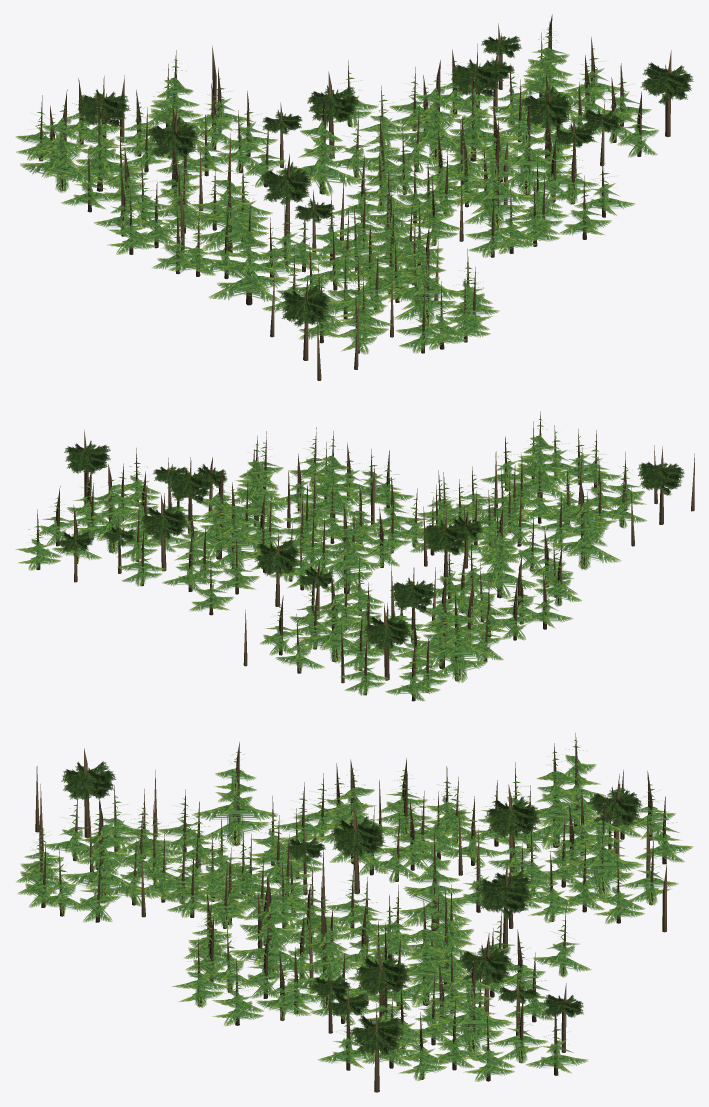
Rendered from foret-Cg5i2cno.glb.
3 renders of one model, top to bottom at view 1: azimuth 30°, elevation 25°; view 2: azimuth 150°, elevation 25°; view 3: azimuth 270°, elevation 25°, orthographic. The views are drawn at different scales.
Parts seen in each view (by area): view 1: Object_3, Object_13, Object_8, Object_14; view 2: Object_3, Object_13, Object_8, Object_14; view 3: Object_3, Object_8, Object_13, Object_14.
Boxes of the visible parts, left/top/right/bottom form: Object_3: left=15, top=27, right=659, bottom=354; Object_13: left=39, top=14, right=641, bottom=353; Object_8: left=78, top=33, right=693, bottom=327; Object_14: left=102, top=23, right=671, bottom=380; Object_3: left=15, top=419, right=647, bottom=701; Object_13: left=36, top=411, right=627, bottom=701; Object_8: left=57, top=440, right=684, bottom=649; Object_14: left=74, top=430, right=694, bottom=683; Object_3: left=16, top=740, right=692, bottom=1081; Object_8: left=61, top=761, right=642, bottom=1055; Object_13: left=39, top=733, right=666, bottom=1081; Object_14: left=35, top=748, right=666, bottom=1092.
Size of the model in its own units: 16.36 by 2.74 by 16.22.
4 materials, 4 textured.
